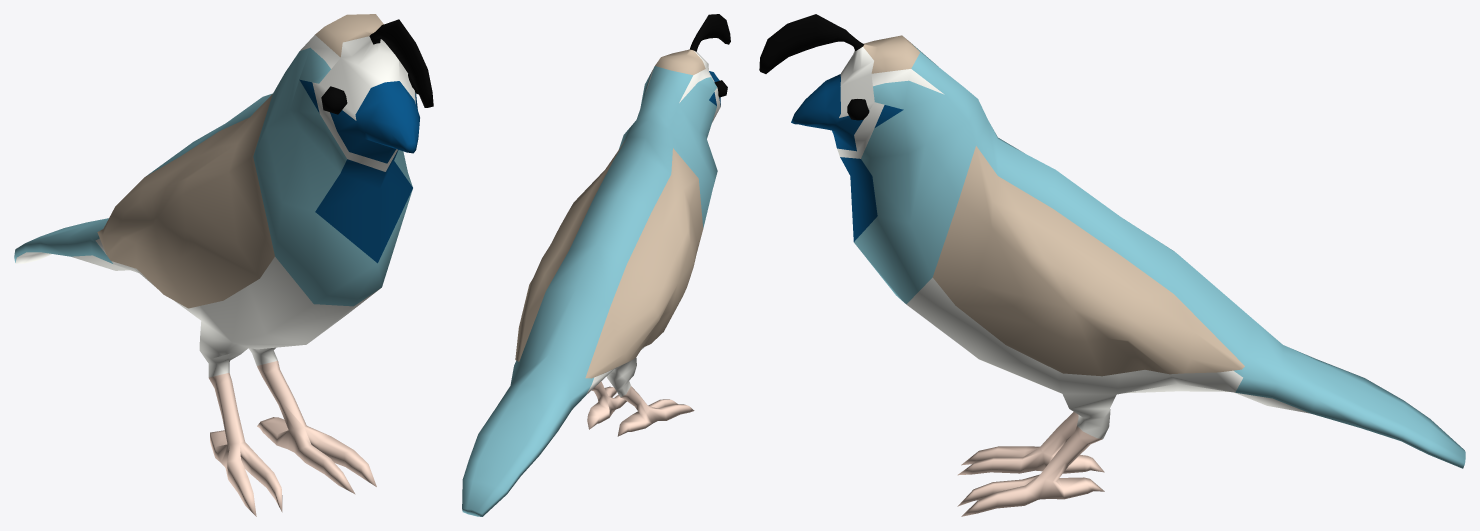
File: 0Bde17Sy506.glb
3 views of the same model, side by side, from view 1: azimuth 30°, elevation 25°; view 2: azimuth 150°, elevation 25°; view 3: azimuth 270°, elevation 25° (orthographic). The views are drawn at different scales.
Visible parts, largest first — view 1: Quail.1; view 2: Quail.1; view 3: Quail.1.
Part boxes in pixels (bbox=[...]): Quail.1: bbox=[14, 14, 433, 516]; Quail.1: bbox=[462, 14, 730, 516]; Quail.1: bbox=[759, 14, 1465, 516].
Bounding box in the file's own units: 0.3878 × 1 × 1.34.
